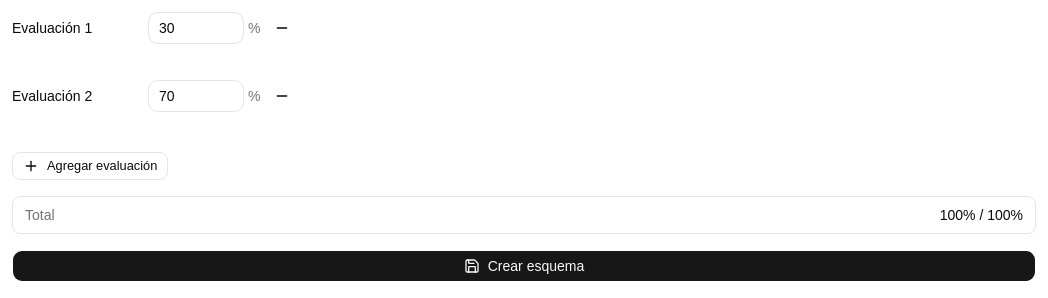
it: EvaluationSchemeForm — add/remove rows › removes a row when delete button is clicked
This screenshot has width=1048, height=298.
Expected: the number of number fields is 2, [148,12,244,44]; [148,80,244,112]
Click the button named "eliminar evaluación 2".
click(282, 96)  # box [268,82,296,110]
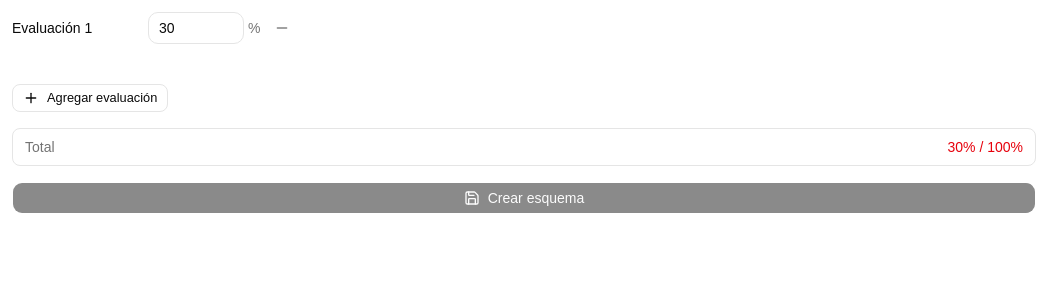
Expected: the number of number fields is 1, [148,12,244,44]
Expected: the text "Evaluación 2" is gone
